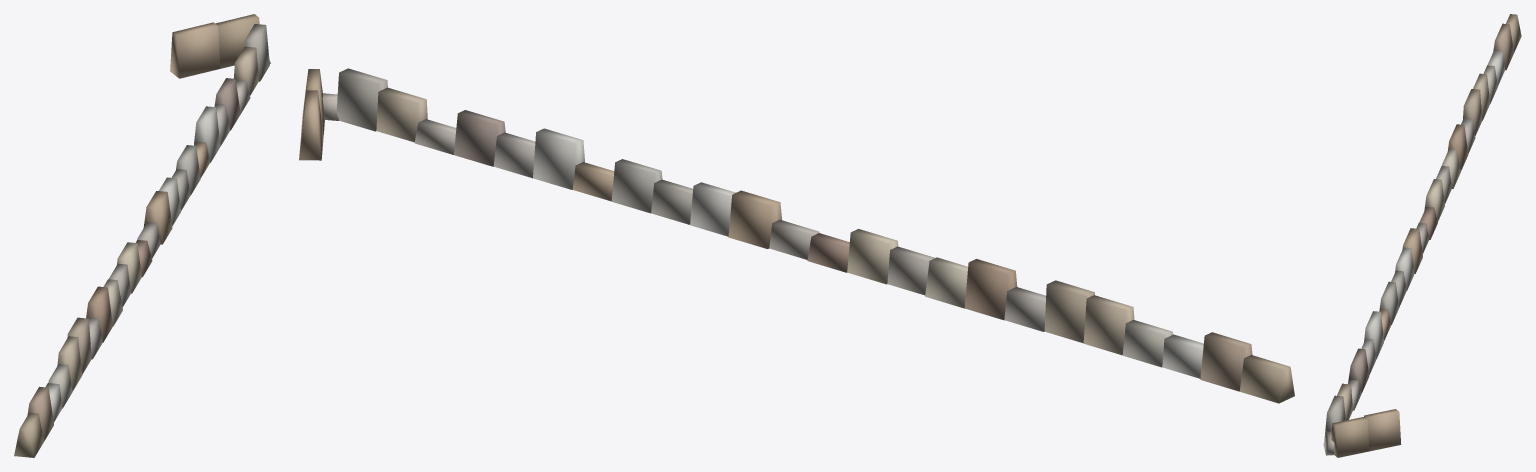
File: farm_-19_-29_collision.glb
3 views of the same model, side by side, from view 1: azimuth 90°, elevation 25°; view 2: azimuth 150°, elevation 25°; view 3: azimuth 270°, elevation 25° (orthographic). The views are drawn at different scales.
Parts seen in each view (by area): view 1: geometry_0; view 2: geometry_0; view 3: geometry_0.
Part boxes in pixels (x1=…): geometry_0: x1=14, y1=14, x2=270, y2=457; geometry_0: x1=299, y1=68, x2=1294, y2=403; geometry_0: x1=1323, y1=14, x2=1521, y2=457.
Bounding box in the file's own units: 38.82 × 4.04 × 8.83.
